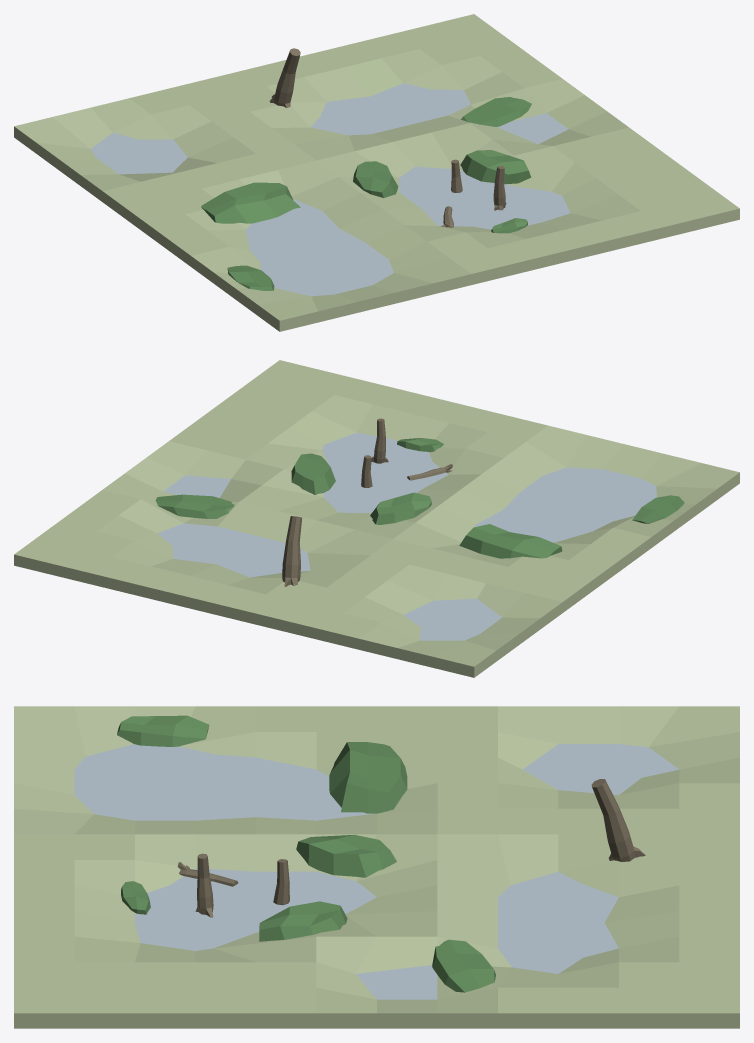
File: Marshland II.fbx
3 views of the same model, one above another, from view 1: azimuth 30°, elevation 25°; view 2: azimuth 150°, elevation 25°; view 3: azimuth 270°, elevation 25° (orthographic). The views are drawn at different scales.
Parts seen in each view (by area): view 1: Marshland II; view 2: Marshland II; view 3: Marshland II.
Boxes of the visible parts, x1,y1,x2,y2 form: Marshland II: (14, 14, 739, 331); Marshland II: (14, 360, 739, 677); Marshland II: (14, 706, 739, 1028).
Bounding box in the file's own units: 1600 × 272 × 1600.
